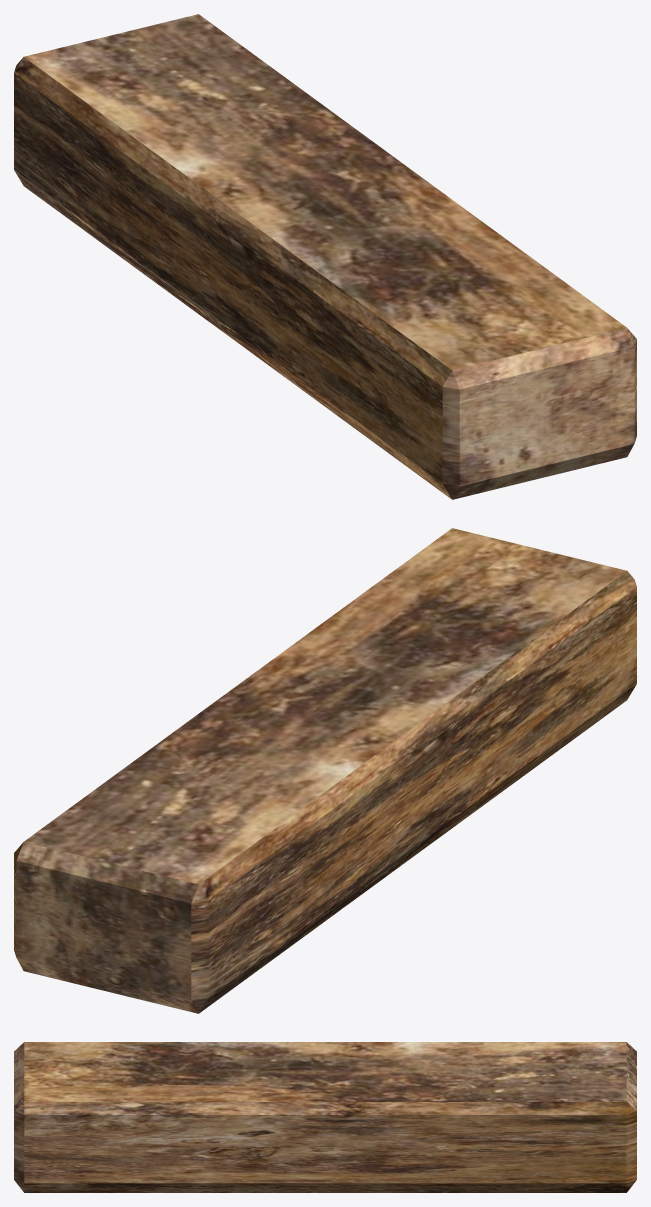
The picture shows the model from 3 angles, top to bottom: view 1: azimuth 30°, elevation 25°; view 2: azimuth 150°, elevation 25°; view 3: azimuth 270°, elevation 25°; orthographic projection. The views are drawn at different scales.
Parts seen in each view (by area): view 1: pCube526; view 2: pCube526; view 3: pCube526.
Boxes of the visible parts, x1=… form: pCube526: x1=14, y1=14, x2=636, y2=499; pCube526: x1=14, y1=528, x2=636, y2=1013; pCube526: x1=14, y1=1042, x2=636, y2=1192.
Size of the model in its own units: 27.87 by 17.73 by 110.
